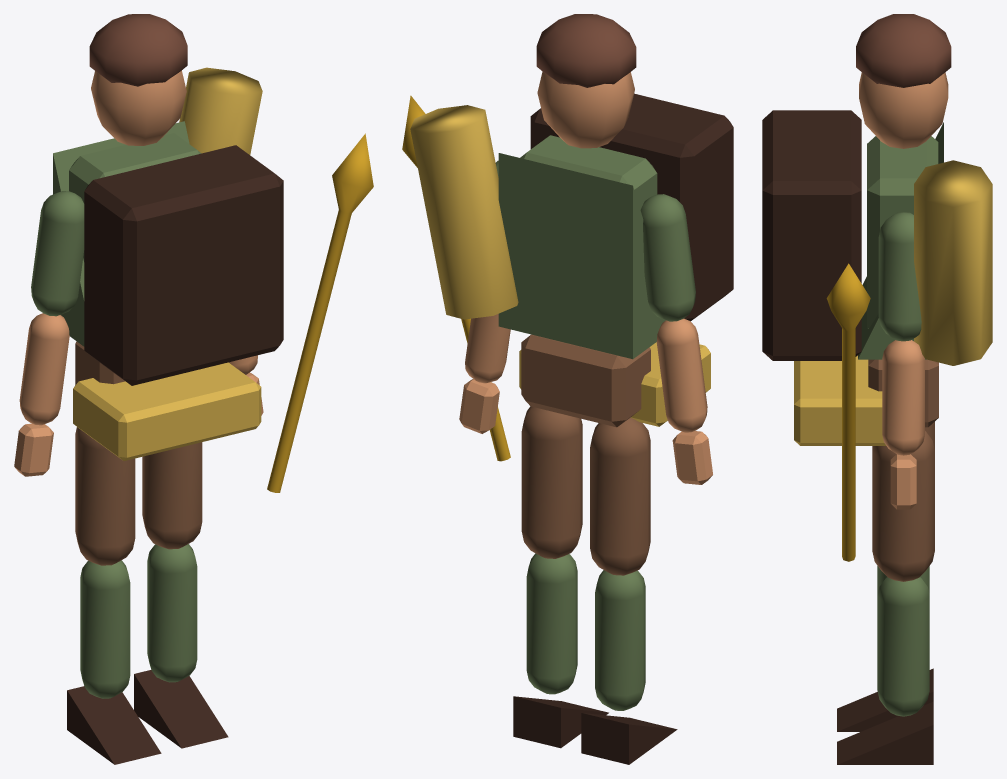
Rendered from adventurer.rustic.glb.
The picture shows the model from 3 angles, left to right: view 1: azimuth 30°, elevation 25°; view 2: azimuth 150°, elevation 25°; view 3: azimuth 270°, elevation 25°; orthographic projection.
Parts seen in each view (by area): view 1: accessory.body, accessory.waist, thigh.left, shin.right, shin.left, accessory.main-hand, hair, thigh.right, accessory.back, upper-arm.left, head, foot.left (+6 smaller); view 2: tunic, accessory.back, accessory.body, thigh.left, pelvis, thigh.right, shin.right, shin.left, hair, upper-arm.left, head, forearm.left (+8 smaller); view 3: accessory.body, accessory.back, shin.right, thigh.right, accessory.waist, hair, torso, accessory.main-hand, head, upper-arm.right, forearm.right, foot.right (+4 smaller).
Boxes of the visible parts, left/top/right/bottom form: accessory.body: left=84, top=145, right=283, bottom=385; accessory.waist: left=73, top=362, right=261, bottom=460; thigh.left: left=75, top=427, right=135, bottom=565; shin.right: left=147, top=544, right=197, bottom=682; shin.left: left=80, top=560, right=130, bottom=698; accessory.main-hand: left=267, top=133, right=373, bottom=492; hair: left=89, top=14, right=187, bottom=86; thigh.right: left=142, top=442, right=202, bottom=549; accessory.back: left=179, top=67, right=262, bottom=154; upper-arm.left: left=31, top=191, right=84, bottom=316; head: left=91, top=70, right=186, bottom=145; foot.left: left=67, top=686, right=161, bottom=764; tunic: left=498, top=153, right=665, bottom=359; accessory.back: left=410, top=105, right=518, bottom=319; accessory.body: left=530, top=93, right=733, bottom=321; thigh.left: left=590, top=417, right=650, bottom=575; pelvis: left=521, top=334, right=650, bottom=427; thigh.right: left=521, top=406, right=582, bottom=558; shin.right: left=526, top=553, right=577, bottom=694; shin.left: left=595, top=570, right=645, bottom=710; hair: left=536, top=14, right=636, bottom=87; upper-arm.left: left=640, top=194, right=695, bottom=321; head: left=537, top=71, right=634, bottom=148; forearm.left: left=656, top=318, right=707, bottom=432; accessory.body: left=762, top=110, right=861, bottom=360; accessory.back: left=914, top=160, right=992, bottom=365; shin.right: left=877, top=577, right=929, bottom=716; thigh.right: left=872, top=431, right=934, bottom=581; accessory.waist: left=794, top=355, right=886, bottom=445; hair: left=856, top=14, right=951, bottom=87; torso: left=867, top=136, right=938, bottom=328; accessory.main-hand: left=826, top=263, right=870, bottom=561; head: left=859, top=72, right=948, bottom=148; upper-arm.right: left=878, top=212, right=921, bottom=341; forearm.right: left=882, top=340, right=924, bottom=455; foot.right: left=837, top=701, right=933, bottom=764.
Bounding box in the file's own units: 1.47 × 3.03 × 0.88.
